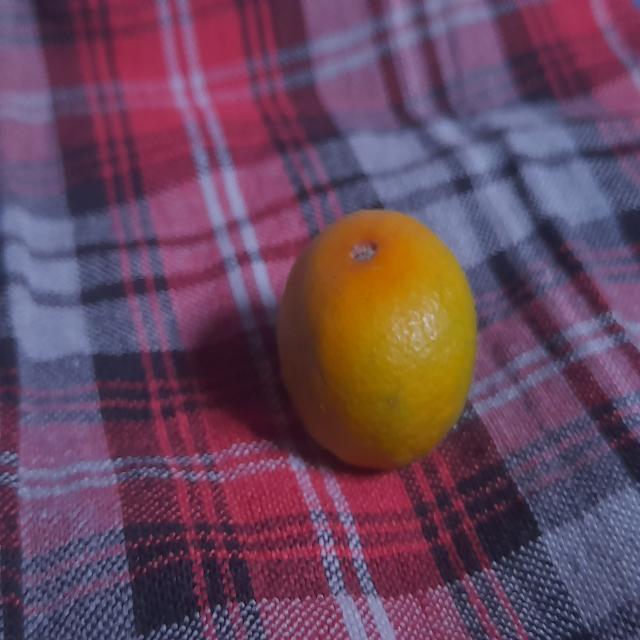greening: (283, 199, 487, 477)
